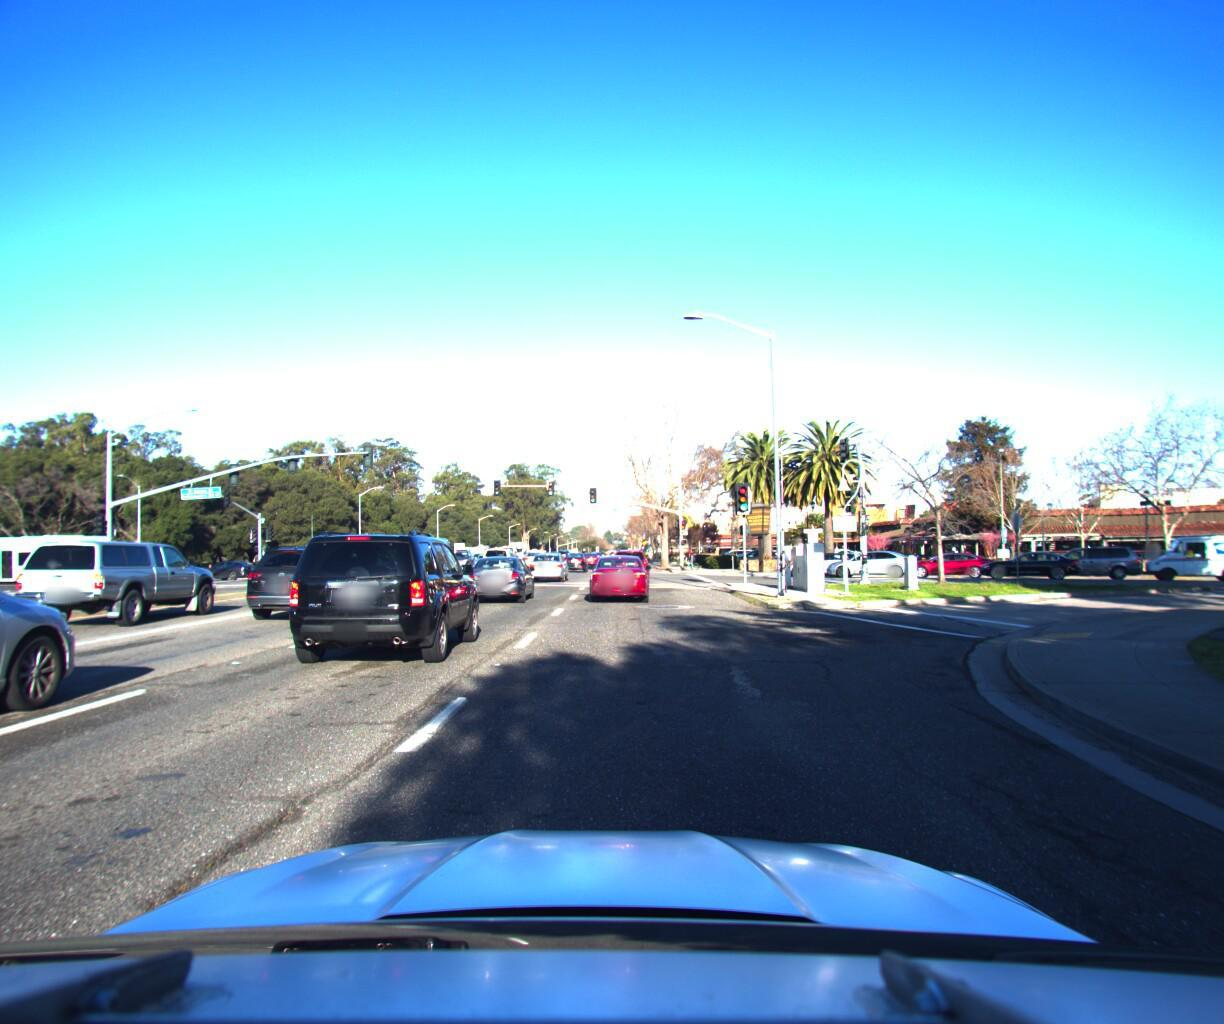bicycle: (681, 540, 701, 563)
bus: (0, 525, 136, 578), (380, 525, 454, 564)
car: (0, 526, 108, 831), (277, 513, 483, 670), (15, 526, 228, 625), (241, 535, 379, 619), (1029, 535, 1140, 570), (463, 546, 536, 599), (584, 546, 648, 597), (820, 539, 916, 570), (976, 539, 1074, 569), (899, 541, 994, 569), (202, 543, 268, 571), (610, 540, 648, 578), (529, 544, 570, 576), (480, 539, 521, 570), (561, 541, 588, 564), (514, 540, 541, 561), (1216, 541, 1224, 573)
other_vehicle: (1129, 524, 1224, 573)
